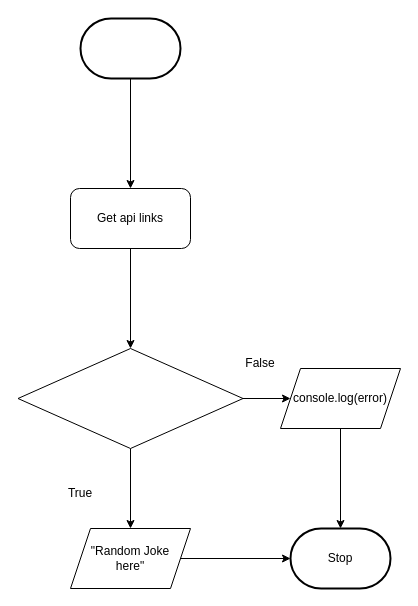
The diagram is 418 pixels wide and 606 high, and some of its shapes have lost their labels. The centre of each missing label's shape, as x and y in pixels:
if (jsonData != "none"): point 130,398
Start: point 130,48
